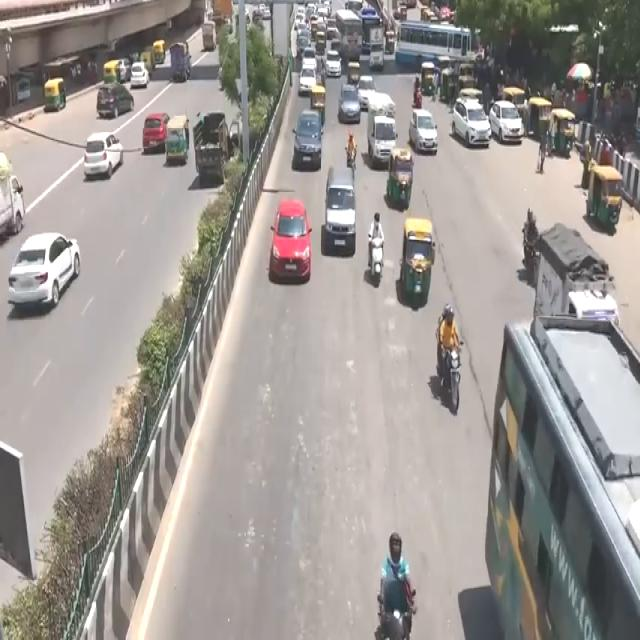BUS: (478, 313, 640, 636)
MOTORCYCLE: (440, 341, 462, 416), (368, 238, 384, 290)
